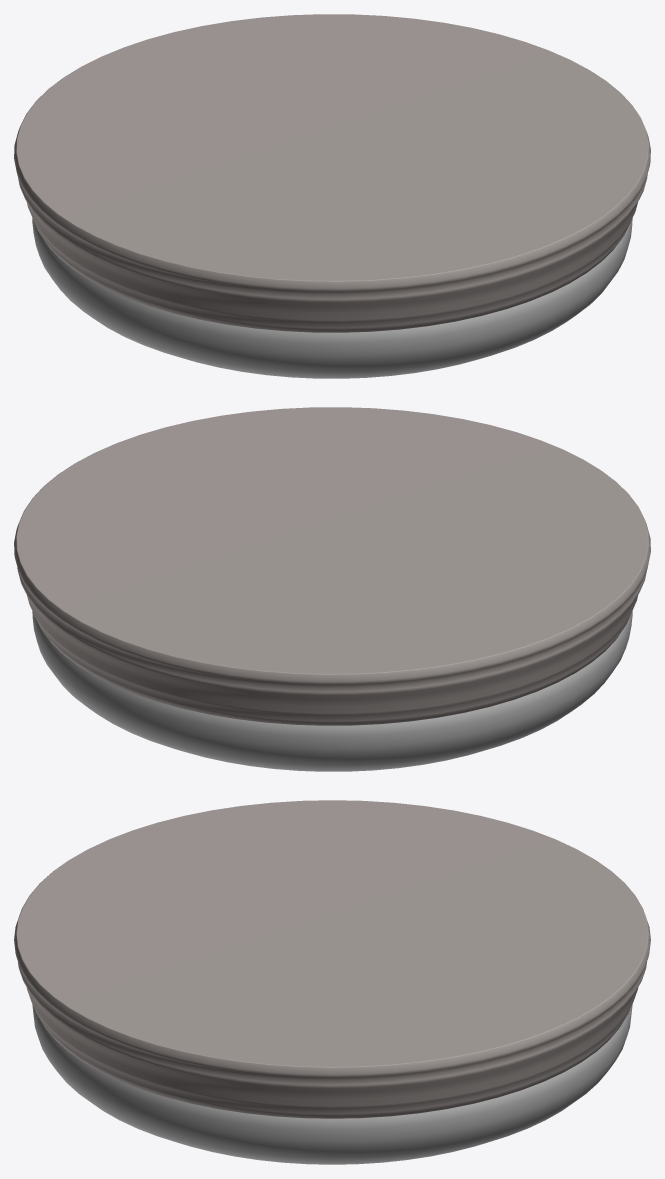
The model's file is B07QGHVVJW.glb.
The picture shows the model from 3 angles, top to bottom: view 1: azimuth 30°, elevation 25°; view 2: azimuth 150°, elevation 25°; view 3: azimuth 270°, elevation 25°; orthographic projection.
Parts seen in each view (by area): view 1: RootNode; view 2: RootNode; view 3: RootNode.
Part boxes in pixels (bbox=[...]): RootNode: bbox=[14, 14, 650, 378]; RootNode: bbox=[14, 407, 650, 771]; RootNode: bbox=[14, 800, 650, 1164].
Size of the model in its own units: 0.3679 by 0.1005 by 0.3679.
1 material, 1 textured.
